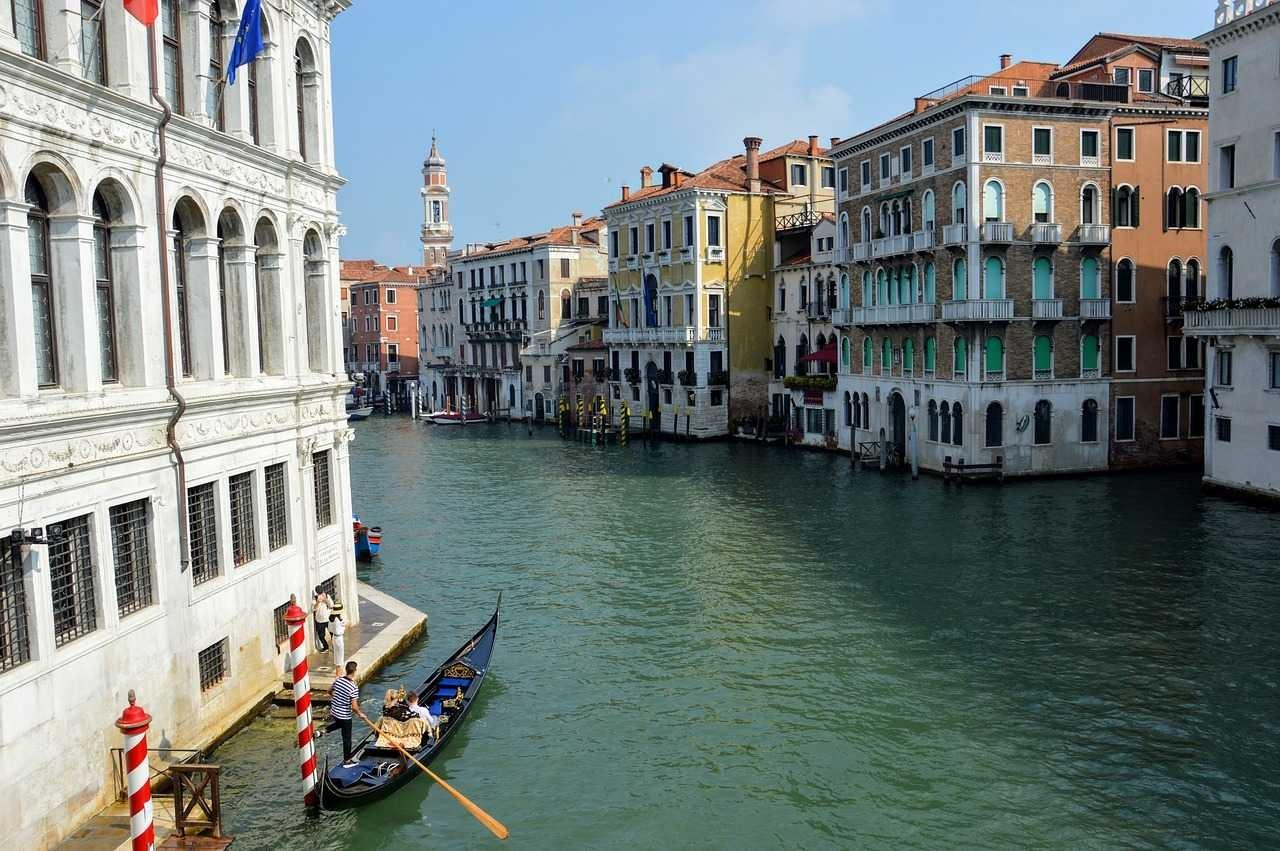kayak: (322, 590, 500, 809), (353, 515, 382, 563), (429, 410, 486, 425), (347, 405, 371, 421)
